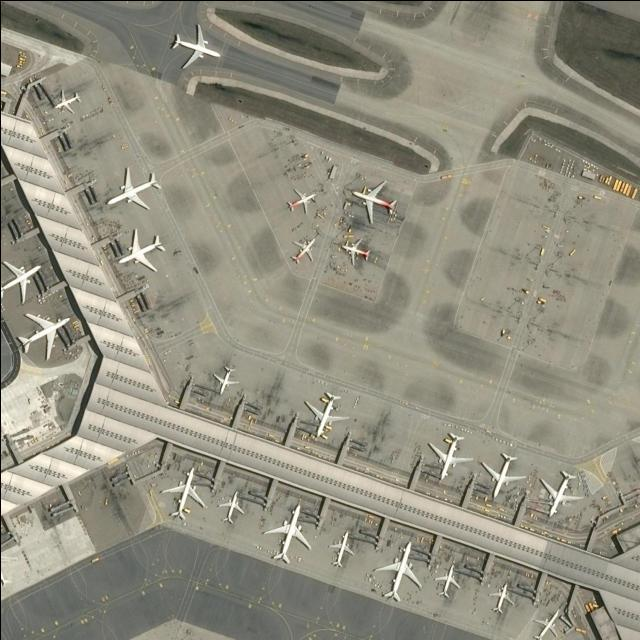Aircraft: (366, 541, 421, 607), (257, 503, 313, 565), (12, 310, 72, 365), (371, 541, 422, 603), (261, 505, 311, 565), (165, 22, 221, 74), (156, 467, 208, 522), (14, 311, 70, 361), (102, 167, 161, 214), (424, 431, 475, 485), (103, 167, 160, 213), (475, 451, 526, 502), (535, 470, 583, 524), (112, 228, 166, 276), (299, 392, 351, 441), (167, 23, 221, 70), (158, 467, 204, 521), (115, 228, 166, 274), (425, 432, 471, 483), (348, 179, 397, 226), (302, 390, 348, 439), (538, 469, 583, 519), (479, 452, 525, 500), (350, 180, 397, 224), (0, 258, 43, 306), (0, 258, 41, 304), (323, 529, 359, 571), (211, 485, 247, 527), (282, 187, 318, 220), (529, 607, 564, 640), (337, 236, 373, 268), (431, 565, 463, 600), (208, 365, 240, 399), (325, 531, 353, 569), (483, 583, 515, 616), (285, 235, 315, 269), (531, 608, 561, 640), (283, 188, 317, 216), (217, 492, 245, 526), (433, 564, 460, 599), (338, 238, 371, 266), (287, 235, 317, 265), (210, 364, 238, 396), (487, 583, 514, 615), (0, 536, 15, 593), (0, 538, 15, 593), (48, 90, 82, 114), (51, 88, 81, 114)
